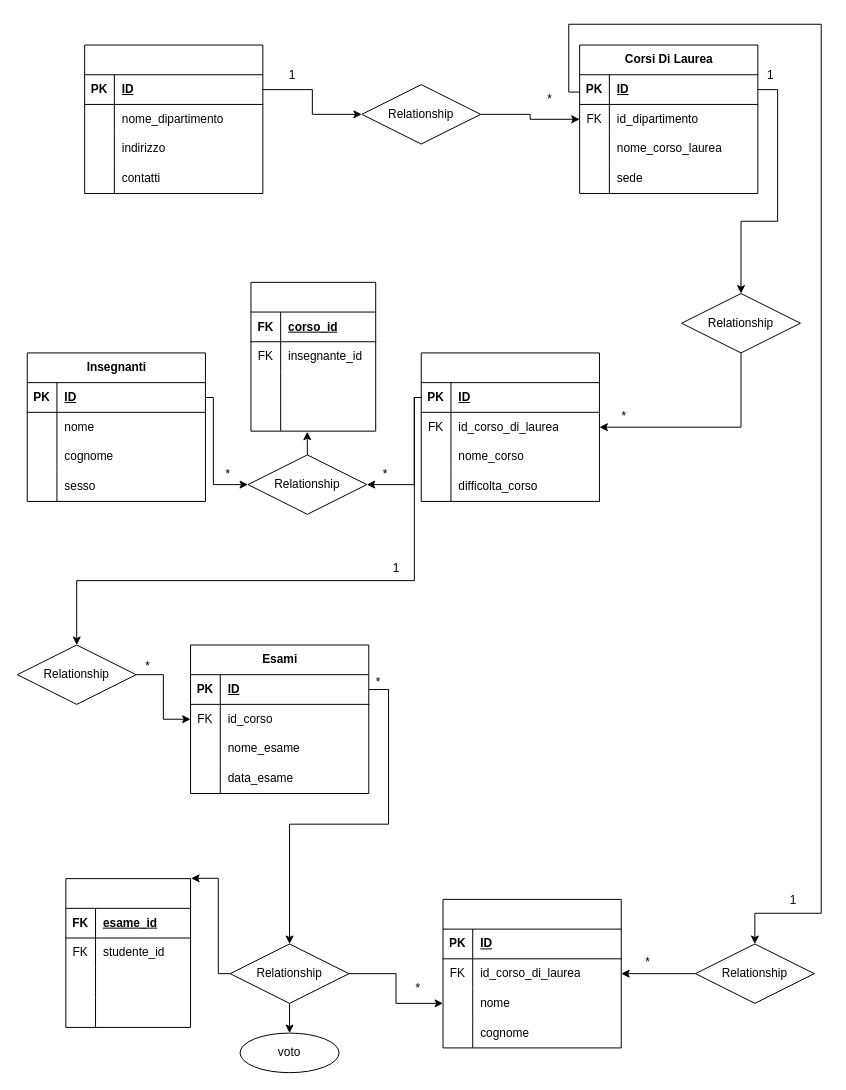
This 846x1090 diagram has some shape labels left out. The box of each missing label's shape, as (x1, y1, x2, y2) in pixels:
Corsi: (420, 352, 599, 501)
corso_insegnante: (250, 281, 376, 431)
Dipartimenti: (84, 44, 263, 194)
esame_studente: (65, 878, 191, 1027)
Studenti: (442, 898, 621, 1048)
